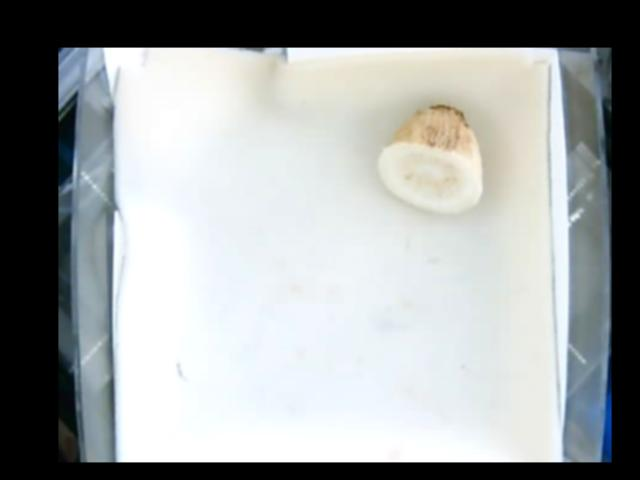Mooli: (377, 106, 483, 215)
